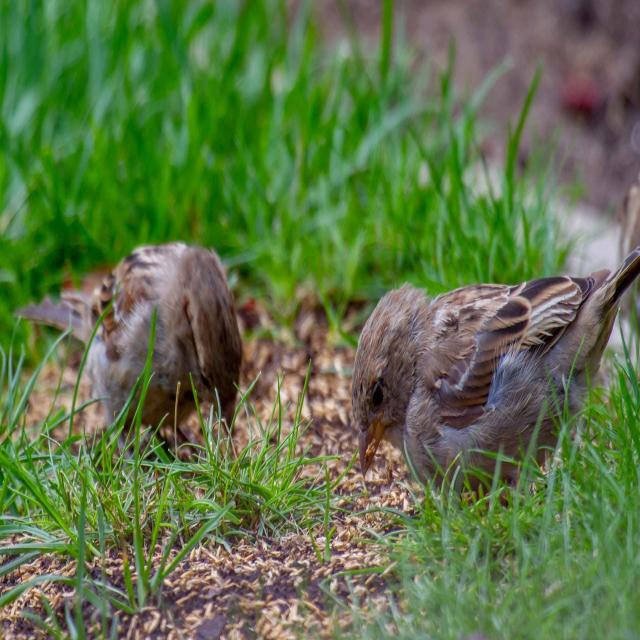bird: (327, 222, 628, 520)
